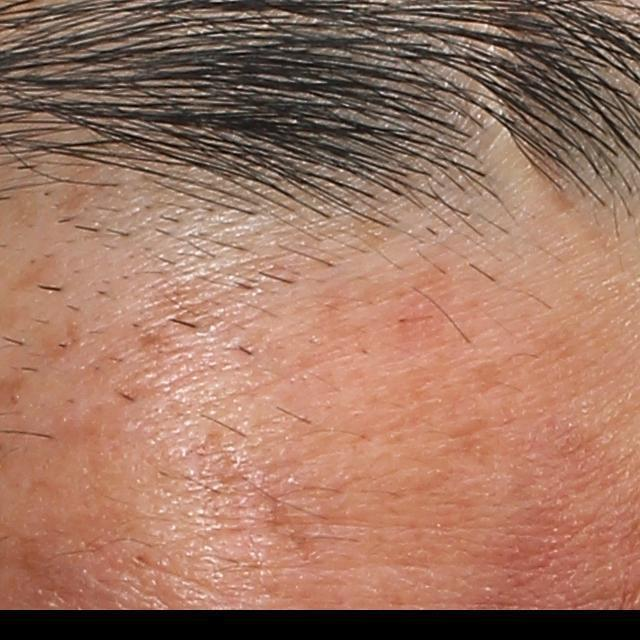melasma: (194, 424, 335, 577), (3, 248, 66, 293), (463, 357, 512, 402)
